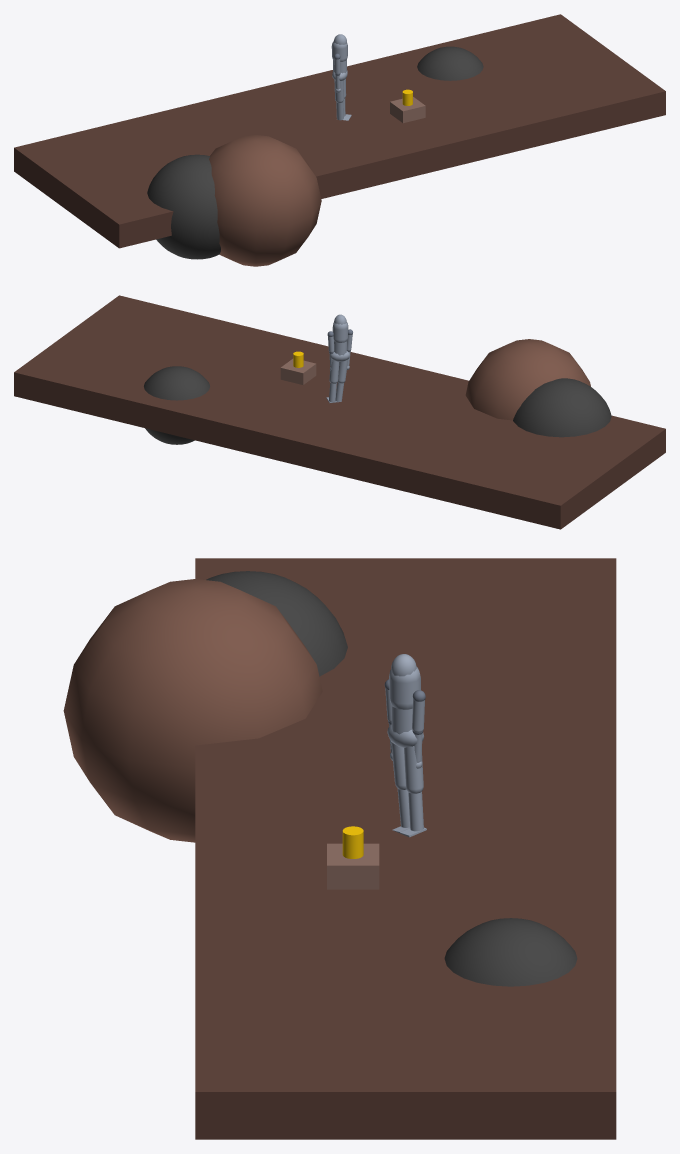
Rendered from scene-3d-lighthouse.glb.
3 renders of one model, top to bottom at view 1: azimuth 30°, elevation 25°; view 2: azimuth 150°, elevation 25°; view 3: azimuth 270°, elevation 25°, orthographic. The views are drawn at different scales.
Parts seen in each view (by area): view 1: pier, boat, rock1, rock2, crate; view 2: pier, boat, rock1, rock2, crate; view 3: pier, boat, rock2, rock1, crate, j_chest.
Boxes of the visible parts, left/top/right/bottom form: pier: left=14, top=14, right=665, bottom=248; boat: left=209, top=135, right=321, bottom=266; rock1: left=147, top=154, right=220, bottom=259; rock2: left=417, top=46, right=483, bottom=80; crate: left=390, top=97, right=425, bottom=123; pier: left=14, top=295, right=665, bottom=529; boat: left=465, top=339, right=590, bottom=420; rock1: left=513, top=378, right=611, bottom=437; rock2: left=144, top=366, right=209, bottom=444; crate: left=280, top=358, right=316, bottom=384; pier: left=195, top=558, right=616, bottom=1139; boat: left=63, top=579, right=322, bottom=842; rock2: left=444, top=918, right=577, bottom=986; rock1: left=206, top=571, right=347, bottom=676; crate: left=327, top=843, right=379, bottom=889; j_chest: left=389, top=666, right=420, bottom=709.
Bounding box in the file's own units: 12 × 3.24 × 5.25.
